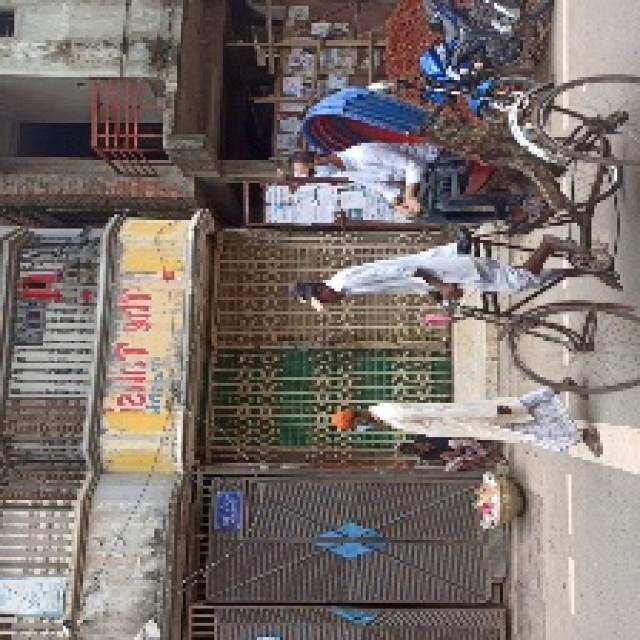bike: (382, 2, 544, 114)
rickshaw: (295, 73, 626, 397)
